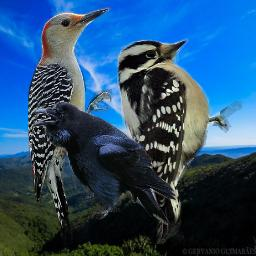Crow: (33, 101, 177, 226)
Woodpecker: (114, 35, 242, 244), (28, 3, 114, 248)
